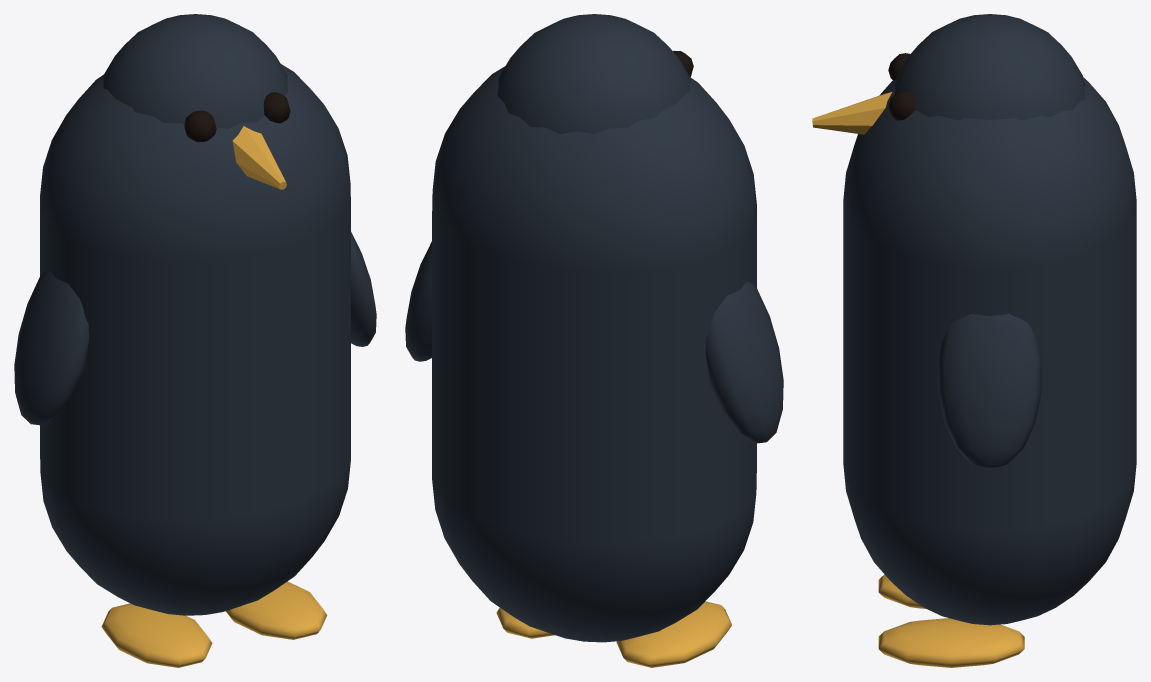
File: h19-penguin.glb
3 renders of one model, left to right at view 1: azimuth 30°, elevation 25°; view 2: azimuth 150°, elevation 25°; view 3: azimuth 270°, elevation 25°, orthographic. The views are drawn at different scales.
Visible parts, largest first — view 1: Penguin, head; view 2: Penguin, head; view 3: Penguin, head.
Part boxes in pixels (bbox=[...]): Penguin: bbox=[14, 64, 376, 667]; head: bbox=[103, 14, 290, 189]; Penguin: bbox=[405, 66, 783, 667]; head: bbox=[497, 14, 693, 133]; Penguin: bbox=[843, 77, 1136, 667]; head: bbox=[812, 14, 1085, 134].
Bounding box in the file's own units: 0.4216 × 0.6975 × 0.3383.
